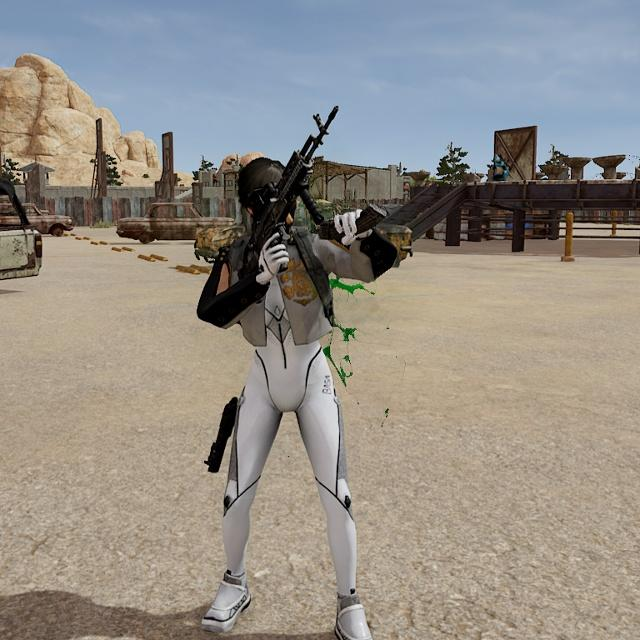head: (233, 151, 305, 232)
people: (187, 142, 382, 640)
